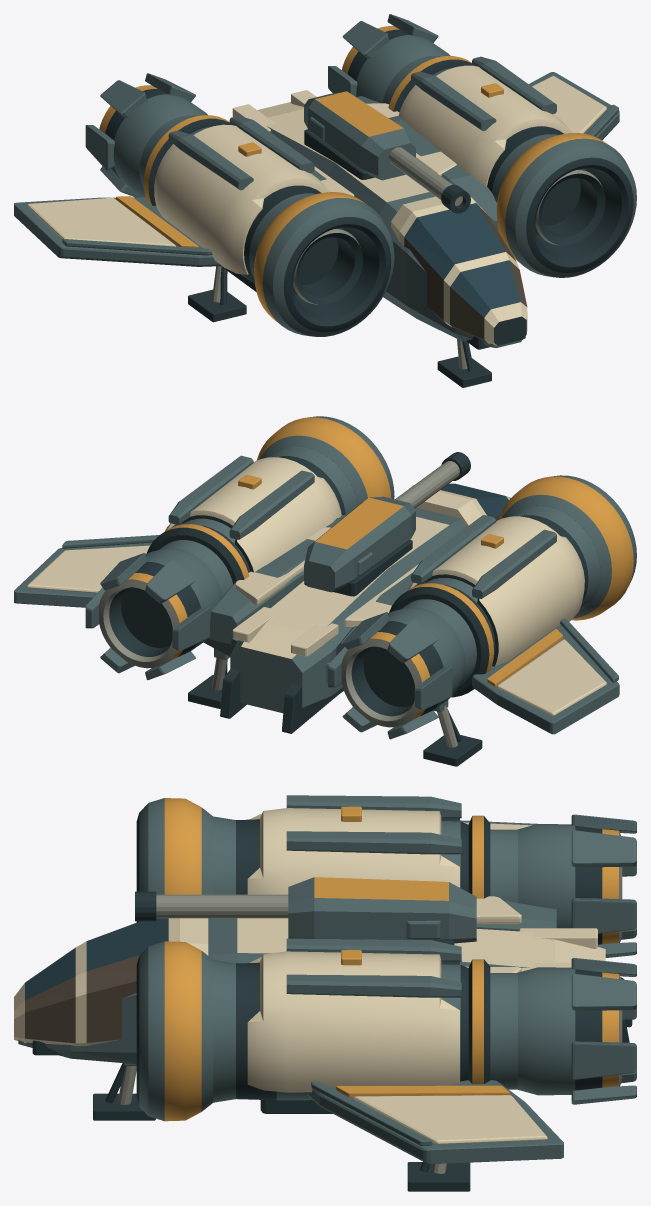
The model's file is buccaneer_01.glb.
3 views of the same model, one above another, from view 1: azimuth 30°, elevation 25°; view 2: azimuth 150°, elevation 25°; view 3: azimuth 270°, elevation 25° (orthographic). The views are drawn at different scales.
Visible parts, largest first — view 1: buccaneer_01; view 2: buccaneer_01; view 3: buccaneer_01.
Part boxes in pixels (x1,y1,x2,y2): buccaneer_01: [14, 14, 636, 387]; buccaneer_01: [14, 416, 636, 766]; buccaneer_01: [14, 795, 636, 1191].
Size of the model in its own units: 13.84 by 4.56 by 11.
